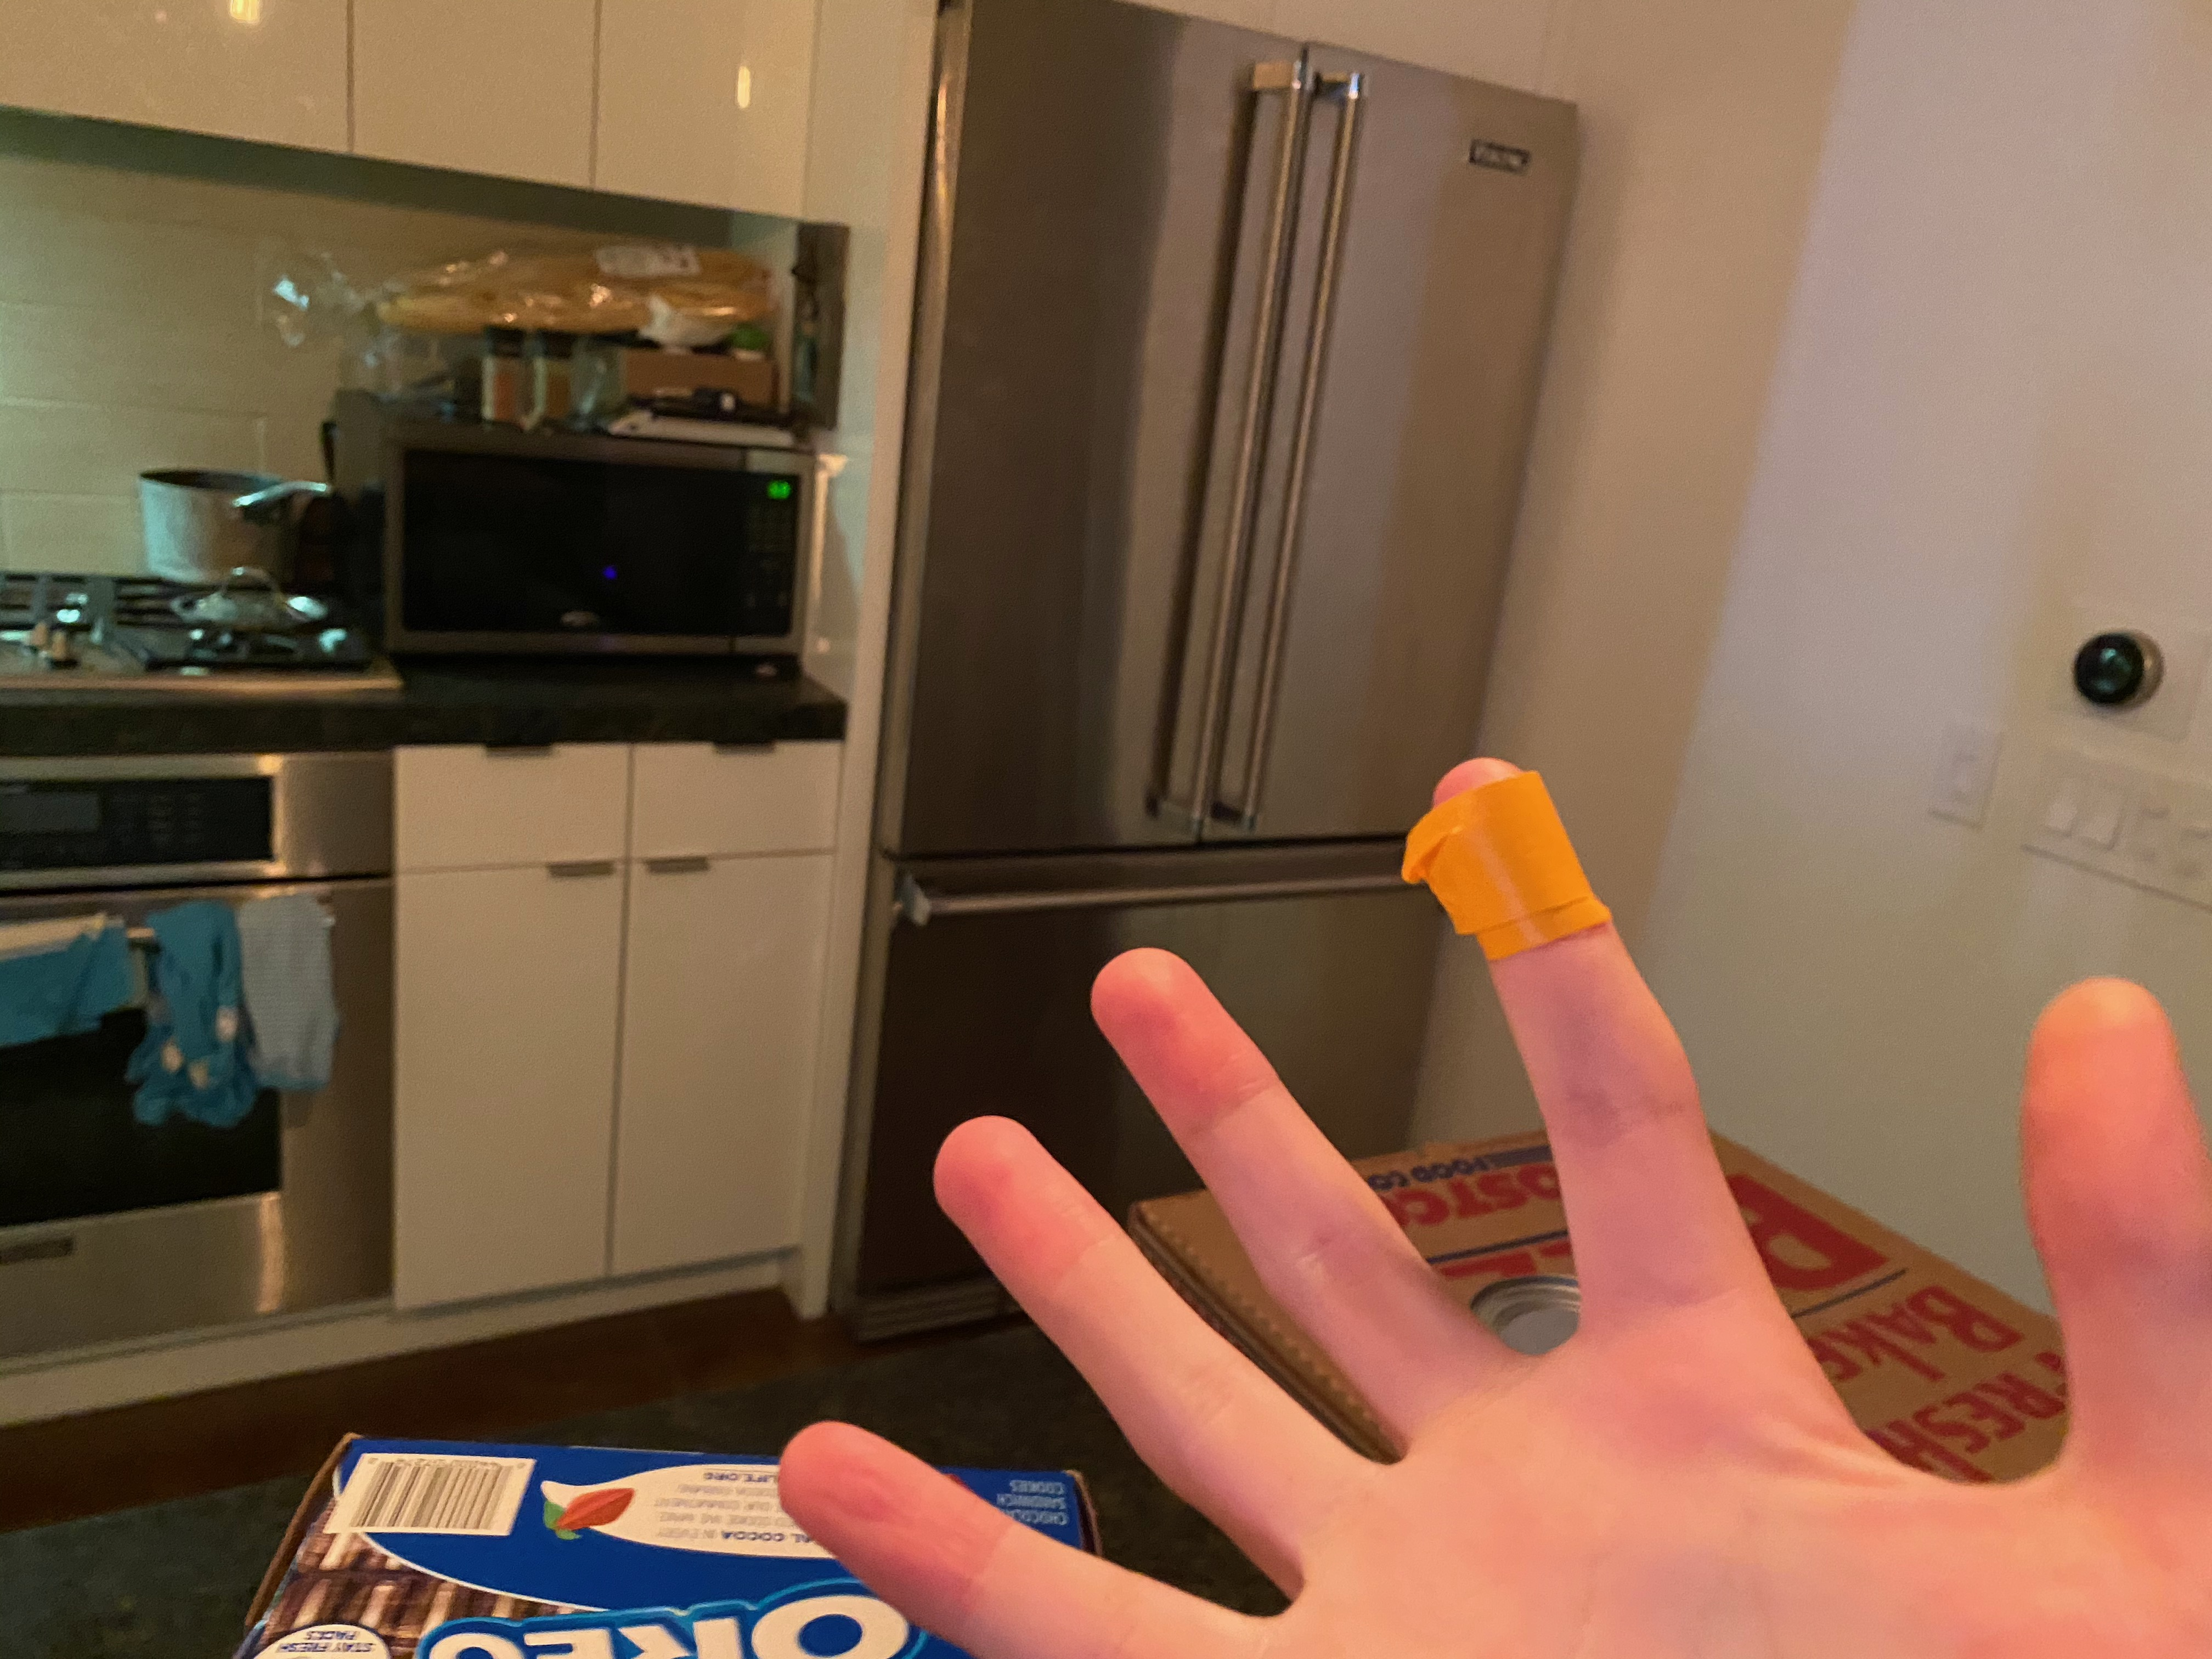fingertip: (1390, 751, 1629, 1026)
